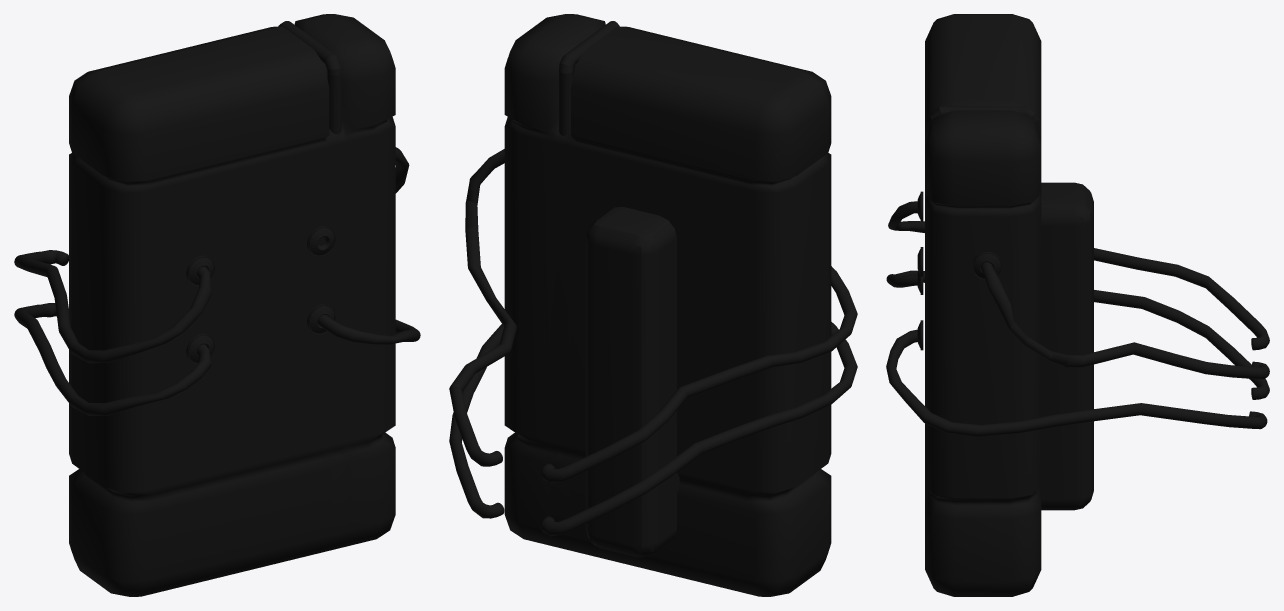
File: Jet.fbx
3 renders of one model, left to right at view 1: azimuth 30°, elevation 25°; view 2: azimuth 150°, elevation 25°; view 3: azimuth 270°, elevation 25°, orthographic. The views are drawn at different scales.
Parts seen in each view (by area): view 1: polySurface19; view 2: polySurface19; view 3: polySurface19.
Part boxes in pixels (x1,y1,x2,y2): polySurface19: (14, 14, 420, 596); polySurface19: (449, 14, 857, 596); polySurface19: (886, 14, 1269, 596).
Size of the model in its own units: 4.96 by 6.76 by 4.97.
